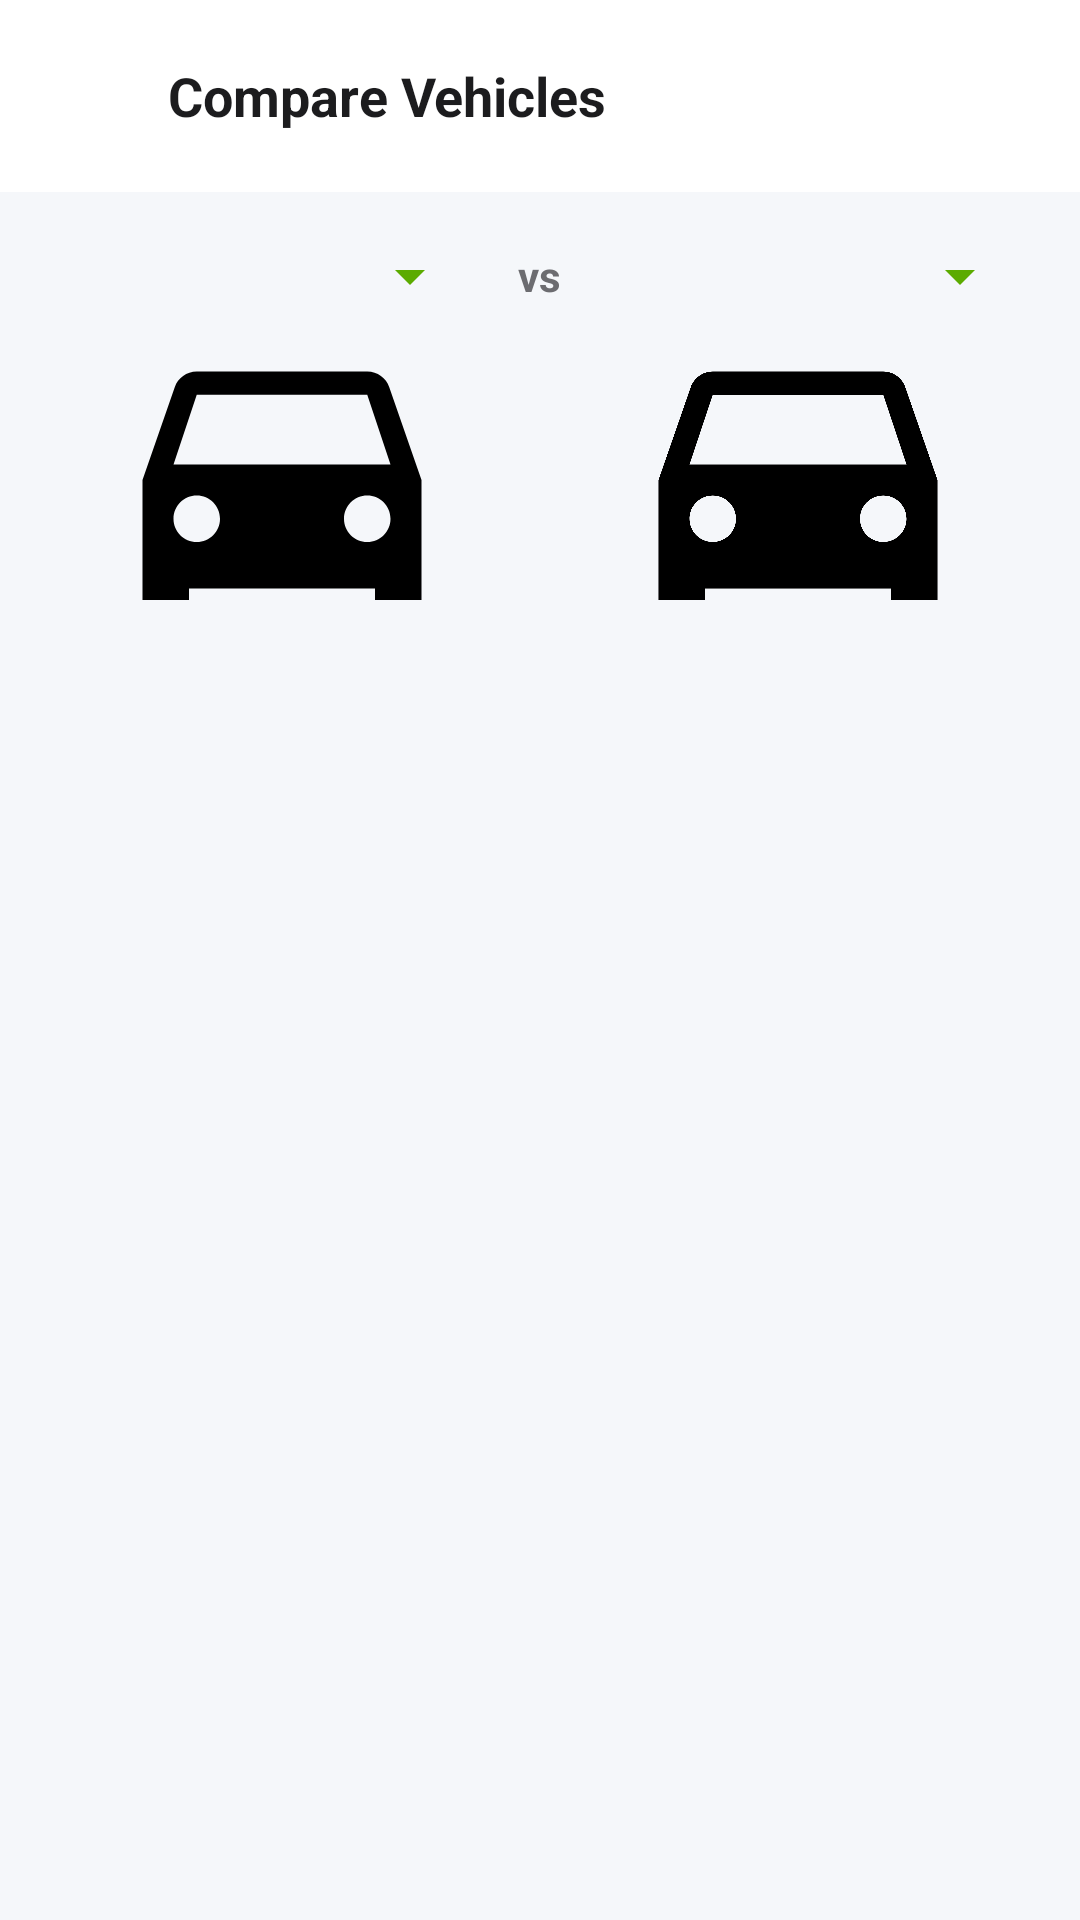

Named icons in this screenshot (1080 × 1920) and their bounding boxes, (x1, y1, x2, y2):
Vehicle A photo: (142, 371, 422, 600)
Vehicle B photo: (658, 371, 938, 600)
